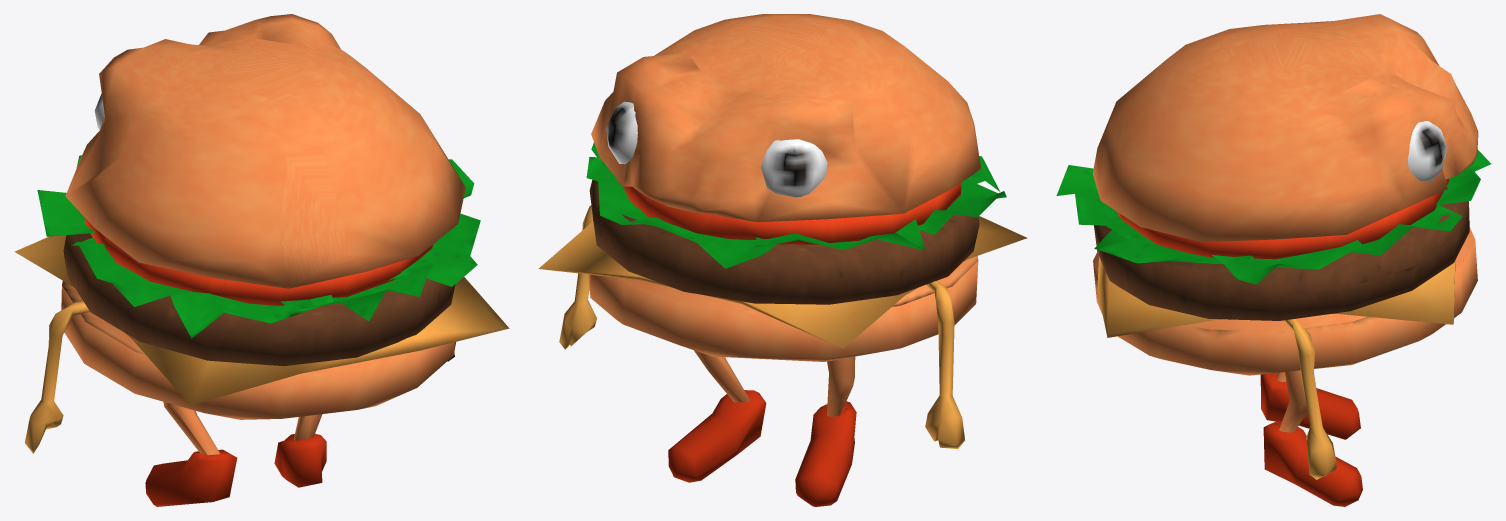
Rendered from plushroyale_static.fbx.
3 renders of one model, left to right at view 1: azimuth 30°, elevation 25°; view 2: azimuth 150°, elevation 25°; view 3: azimuth 270°, elevation 25°, orthographic. The views are drawn at different scales.
Visible parts, largest first — view 1: Royale; view 2: Royale; view 3: Royale.
Part boxes in pixels (<box>): Royale: <box>14,14,509,506</box>; Royale: <box>538,14,1026,506</box>; Royale: <box>1056,14,1490,506</box>.
Bounding box in the file's own units: 0.3577 × 0.368 × 0.343.
